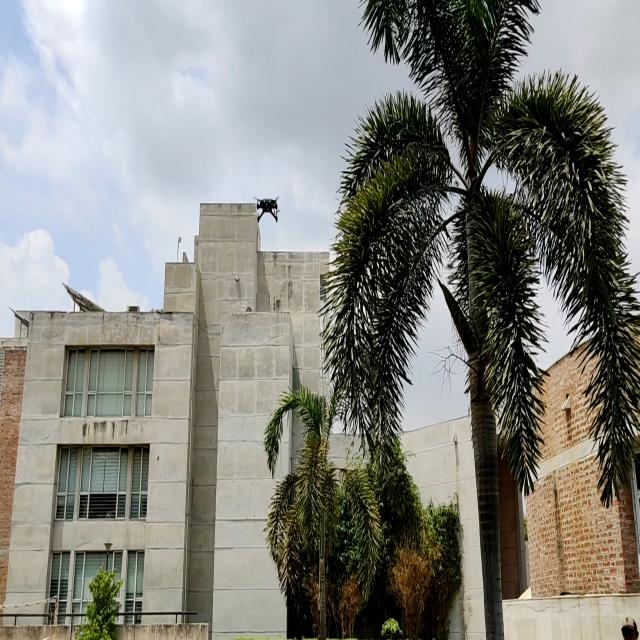drone: (251, 182, 282, 226)
